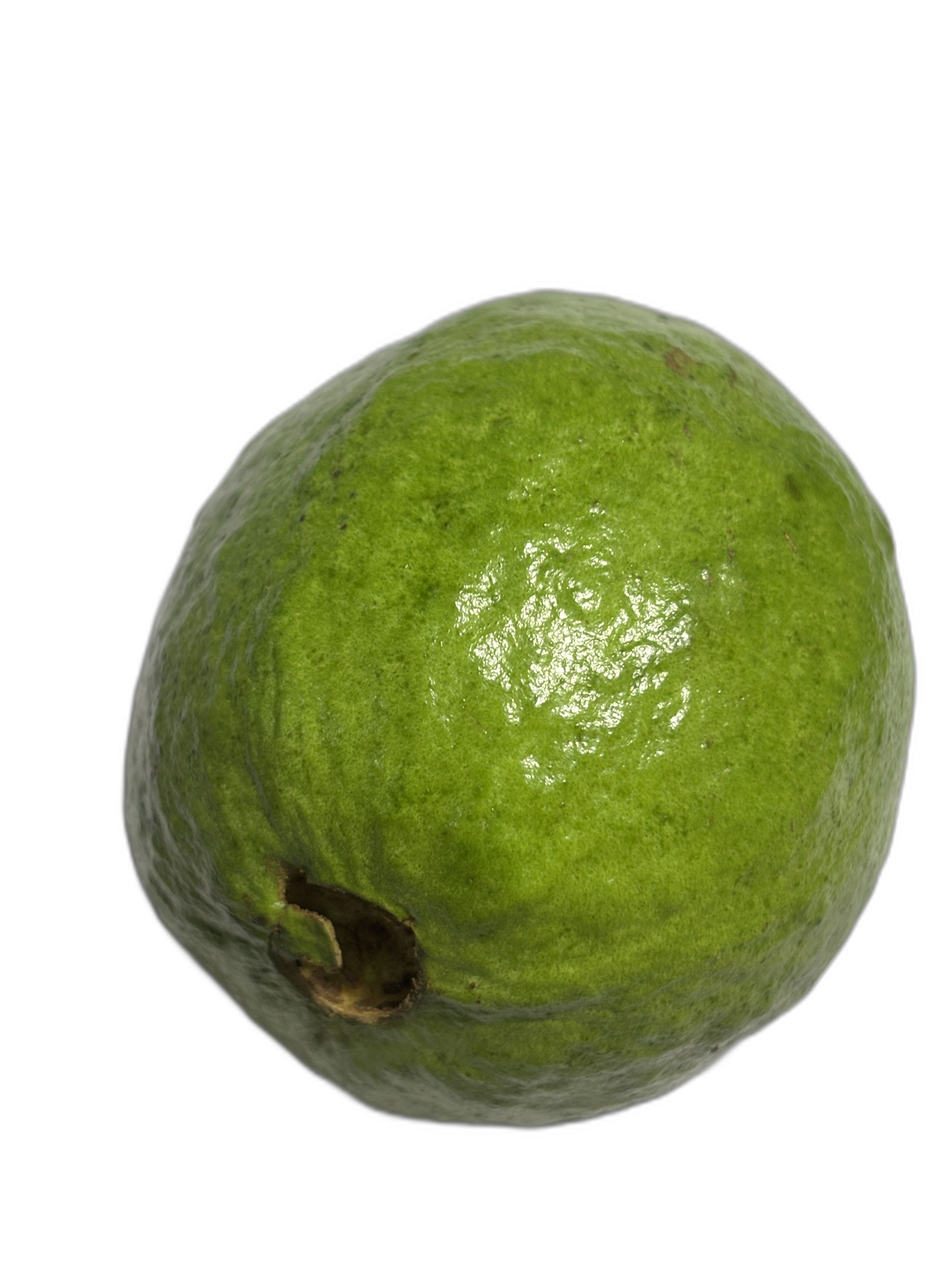guava: (215, 54, 838, 1134)
